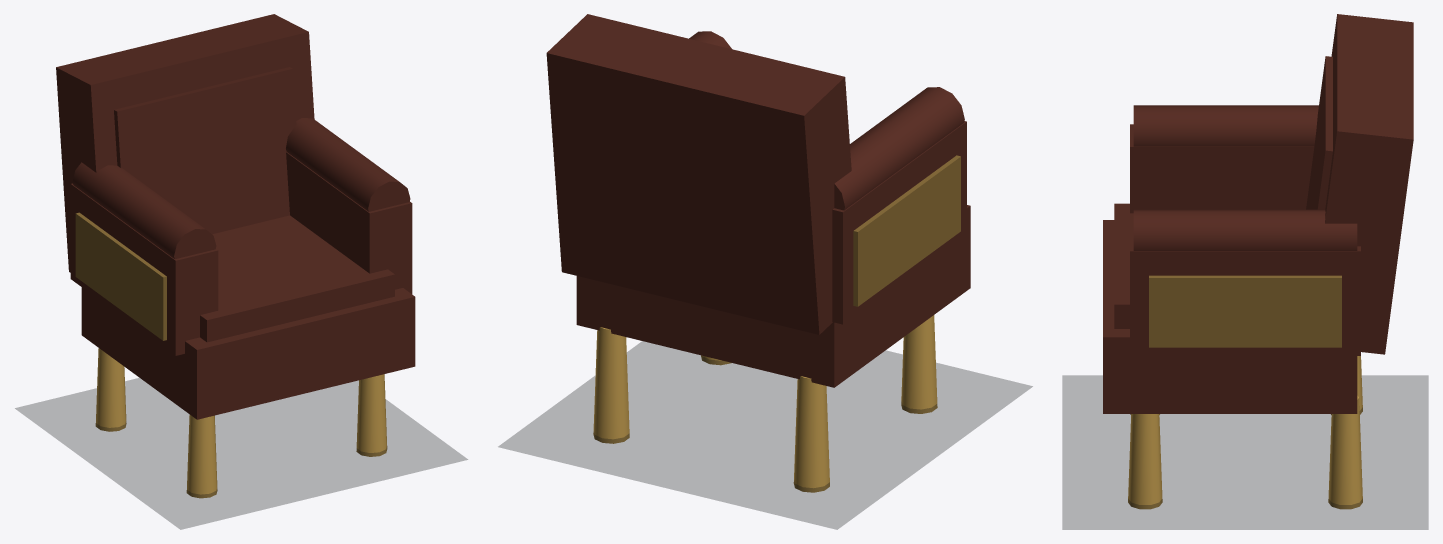
File: hp_room_desire_leather_chair.glb
3 renders of one model, left to right at view 1: azimuth 30°, elevation 25°; view 2: azimuth 150°, elevation 25°; view 3: azimuth 270°, elevation 25°, orthographic. The views are drawn at different scales.
Parts seen in each view (by area): view 1: contact_shadow, seat, back_pad, back, seat_cushion, arm_1, arm_-1, studs_-1, arm_roll_-1, arm_roll_1, foot_-1_1, foot_1_1 (+1 smaller); view 2: back, contact_shadow, seat, studs_-1, arm_-1, arm_roll_-1, foot_1_-1, foot_-1_-1, foot_-1_1; view 3: contact_shadow, back, seat, studs_1, arm_-1, arm_1, arm_roll_1, arm_roll_-1, foot_1_-1, foot_1_1, back_pad, seat_cushion.
Boxes of the visible parts, left/top/right/bottom form: contact_shadow: left=15, top=378, right=467, bottom=529; seat: left=81, top=287, right=415, bottom=419; back_pad: left=114, top=67, right=296, bottom=234; back: left=56, top=14, right=314, bottom=272; seat_cushion: left=200, top=215, right=394, bottom=342; arm_1: left=286, top=152, right=412, bottom=293; arm_-1: left=70, top=183, right=218, bottom=355; studs_-1: left=75, top=212, right=166, bottom=340; arm_roll_-1: left=72, top=162, right=216, bottom=259; arm_roll_1: left=286, top=118, right=410, bottom=211; foot_-1_1: left=186, top=415, right=217, bottom=498; foot_1_1: left=356, top=374, right=387, bottom=456; back: left=546, top=14, right=851, bottom=334; contact_shadow: left=498, top=341, right=1032, bottom=529; seat: left=576, top=205, right=970, bottom=387; studs_-1: left=853, top=155, right=960, bottom=306; arm_-1: left=832, top=121, right=966, bottom=324; arm_roll_-1: left=834, top=87, right=964, bottom=210; foot_1_-1: left=593, top=327, right=629, bottom=443; foot_-1_-1: left=793, top=376, right=829, bottom=492; foot_-1_1: left=901, top=315, right=937, bottom=413; contact_shadow: left=1062, top=375, right=1428, bottom=529; back: left=1325, top=14, right=1413, bottom=354; seat: left=1103, top=220, right=1357, bottom=413; studs_1: left=1149, top=275, right=1341, bottom=347; arm_-1: left=1130, top=124, right=1314, bottom=213; arm_1: left=1130, top=228, right=1360, bottom=355; arm_roll_1: left=1133, top=209, right=1357, bottom=250; arm_roll_-1: left=1133, top=105, right=1318, bottom=146; foot_1_-1: left=1328, top=395, right=1362, bottom=509; foot_1_1: left=1128, top=414, right=1162, bottom=509; back_pad: left=1306, top=56, right=1332, bottom=209; seat_cushion: left=1114, top=203, right=1133, bottom=328.
Size of the model in its own units: 0.95 by 1.1 by 0.95.
